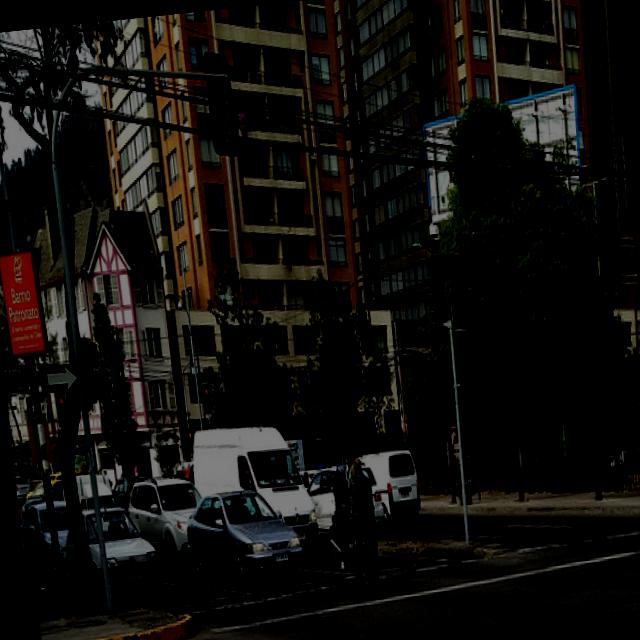Vehicle: (190, 412, 316, 552), (185, 487, 306, 597), (60, 504, 164, 614), (125, 468, 206, 568), (304, 463, 386, 537), (360, 448, 422, 532), (19, 496, 75, 581), (325, 502, 365, 564), (14, 472, 32, 500), (48, 472, 64, 494)
